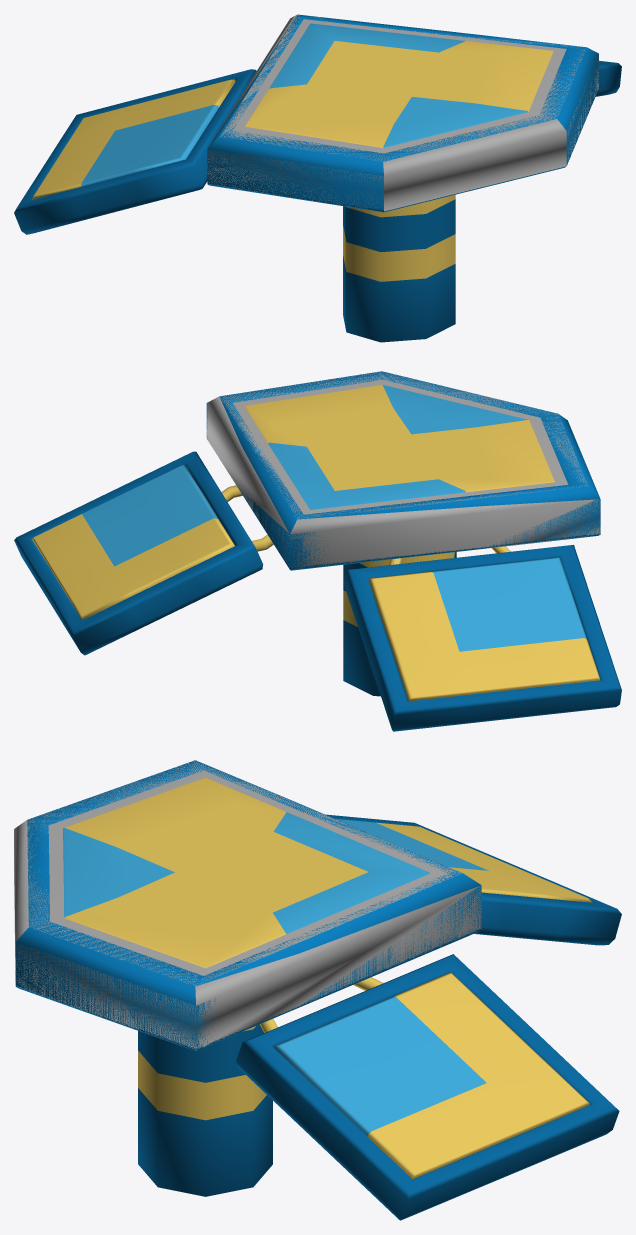
The model's file is plataforma2Base.fbx.
3 renders of one model, top to bottom at view 1: azimuth 30°, elevation 25°; view 2: azimuth 150°, elevation 25°; view 3: azimuth 270°, elevation 25°, orthographic. The views are drawn at different scales.
Parts seen in each view (by area): view 1: plataformaCEntral, colisionCentral, plataformaLateral2, plataformaLateral1; view 2: plataformaCEntral, plataformaLateral2, plataformaLateral1, colisionCentral; view 3: plataformaCEntral, plataformaLateral1, colisionCentral, plataformaLateral2.
Boxes of the visible parts, x1,y1,x2,y2 form: plataformaCEntral: [207, 14, 598, 342]; colisionCentral: [207, 15, 598, 211]; plataformaLateral2: [14, 69, 256, 234]; plataformaLateral1: [595, 60, 621, 96]; plataformaCEntral: [206, 371, 600, 696]; plataformaLateral2: [344, 545, 621, 731]; plataformaLateral1: [14, 451, 263, 655]; colisionCentral: [206, 371, 600, 569]; plataformaCEntral: [15, 760, 481, 1196]; plataformaLateral1: [236, 954, 619, 1220]; colisionCentral: [14, 761, 481, 1049]; plataformaLateral2: [326, 814, 621, 945].
Bounding box in the file's own units: 2953 × 1077 × 2031.
